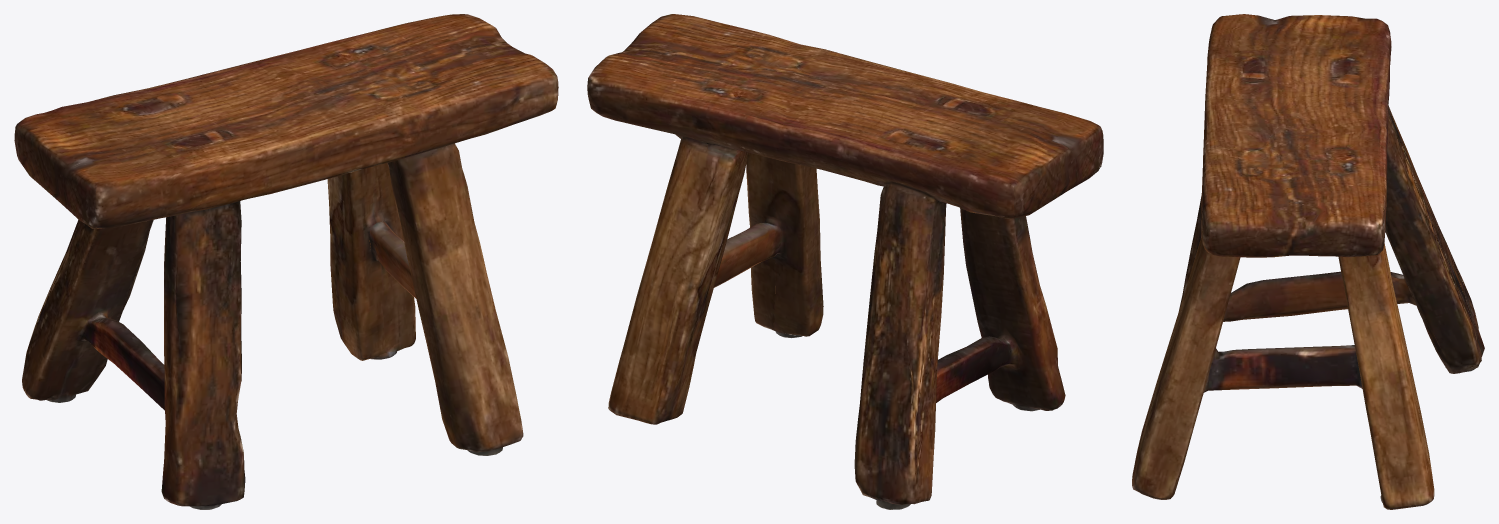
Rendered from wooden_stool_02.glb.
The picture shows the model from 3 angles, left to right: view 1: azimuth 30°, elevation 25°; view 2: azimuth 150°, elevation 25°; view 3: azimuth 270°, elevation 25°; orthographic projection. The views are drawn at different scales.
Visible parts, largest first — view 1: wooden_stool_02; view 2: wooden_stool_02; view 3: wooden_stool_02.
Boxes of the visible parts, <box> form: wooden_stool_02: <box>14,14,558,509</box>; wooden_stool_02: <box>587,14,1103,509</box>; wooden_stool_02: <box>1132,14,1484,509</box>.
Size of the model in its own units: 0.2652 by 0.1821 by 0.1832.
Materials: 1 (1 with a texture image).
